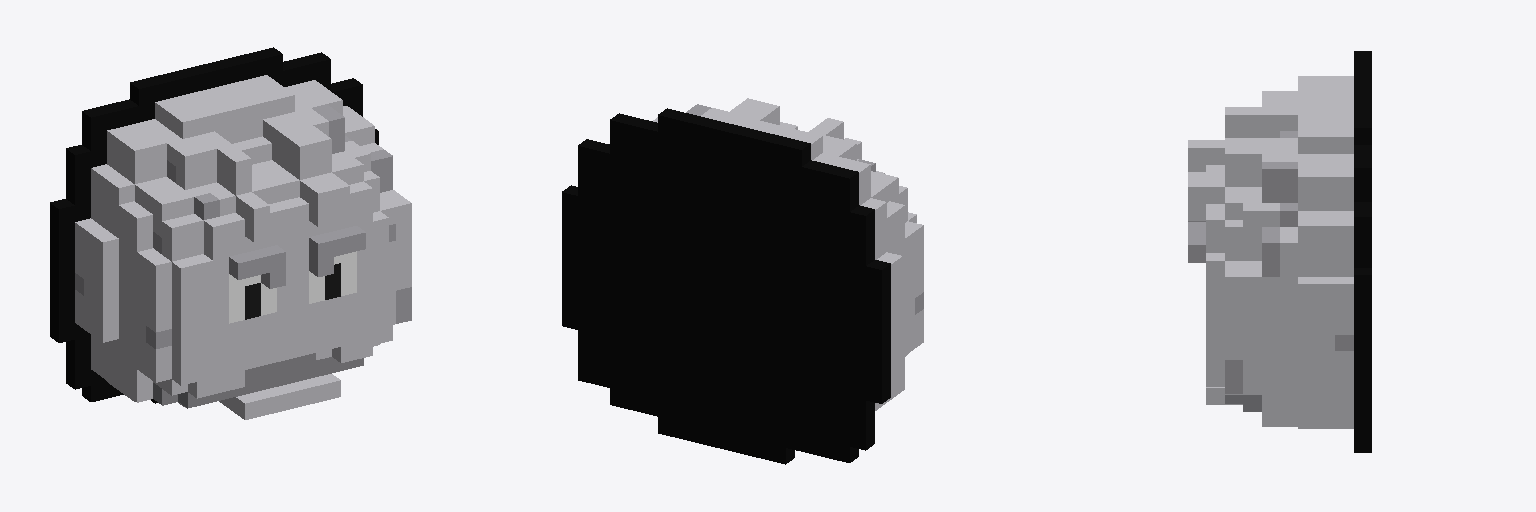
3 views of the same model, side by side, from view 1: azimuth 30°, elevation 25°; view 2: azimuth 150°, elevation 25°; view 3: azimuth 270°, elevation 25° (orthographic).
Visible parts, largest first — view 1: object 1; view 2: object 1; view 3: object 1.
Part boxes in pixels (bbox=[...]): object 1: bbox=[50, 47, 411, 419]; object 1: bbox=[562, 98, 923, 464]; object 1: bbox=[1188, 51, 1371, 452].
Size of the model in its own units: 2 by 1.9 by 1.
1 materials, 1 textured.